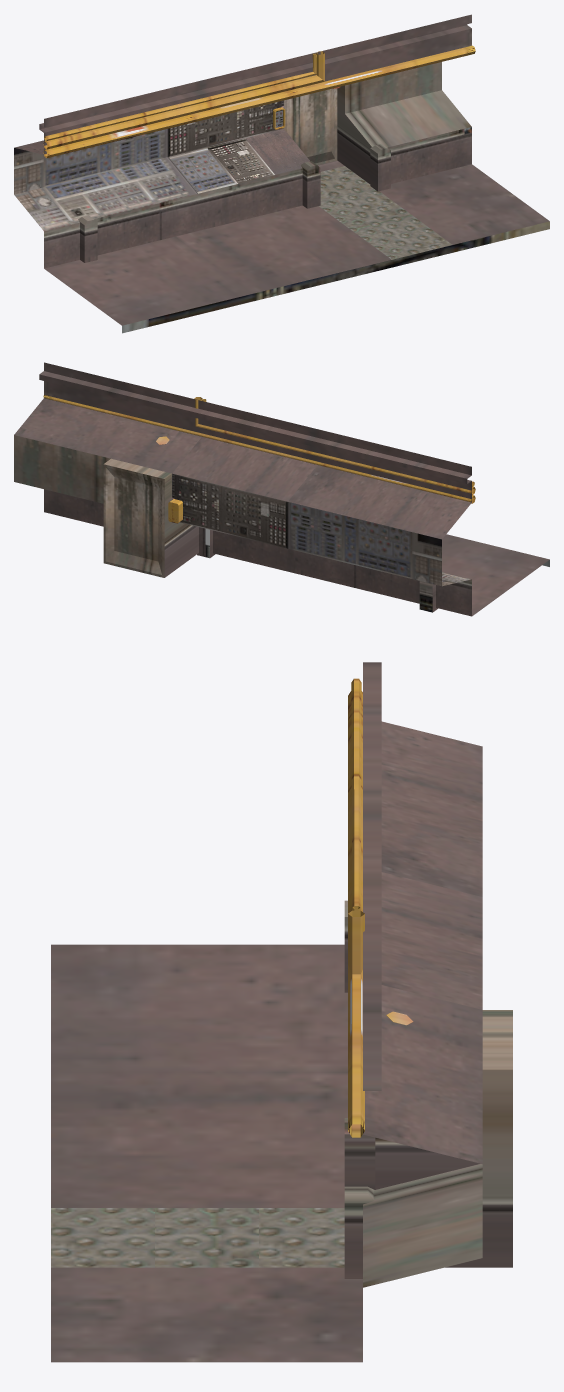
The model's file is corridor_base.fbx.
The picture shows the model from 3 angles, top to bottom: view 1: azimuth 30°, elevation 25°; view 2: azimuth 150°, elevation 25°; view 3: azimuth 270°, elevation 25°; orthographic projection. The views are drawn at different scales.
Parts seen in each view (by area): view 1: corridor; view 2: corridor; view 3: corridor.
Part boxes in pixels (bbox=[...]): corridor: bbox=[14, 14, 549, 333]; corridor: bbox=[14, 362, 549, 616]; corridor: bbox=[51, 662, 512, 1362].
Size of the model in its own units: 1119 by 523 by 394.
